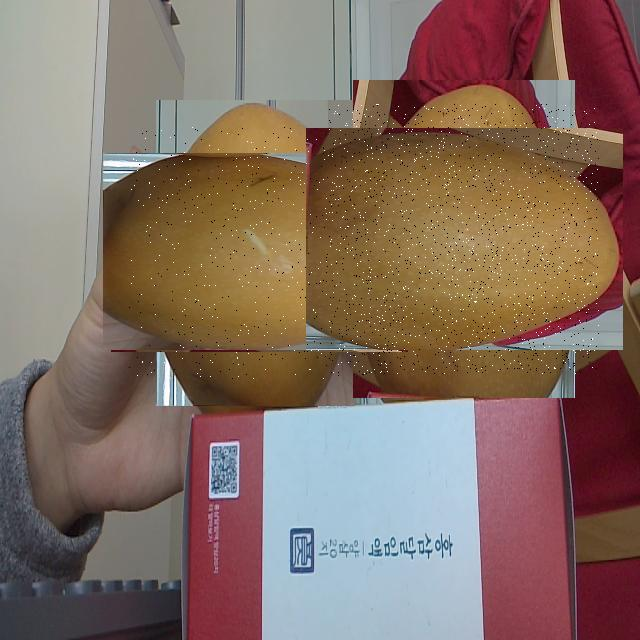pear: (329, 104, 599, 374), (129, 127, 382, 379)
